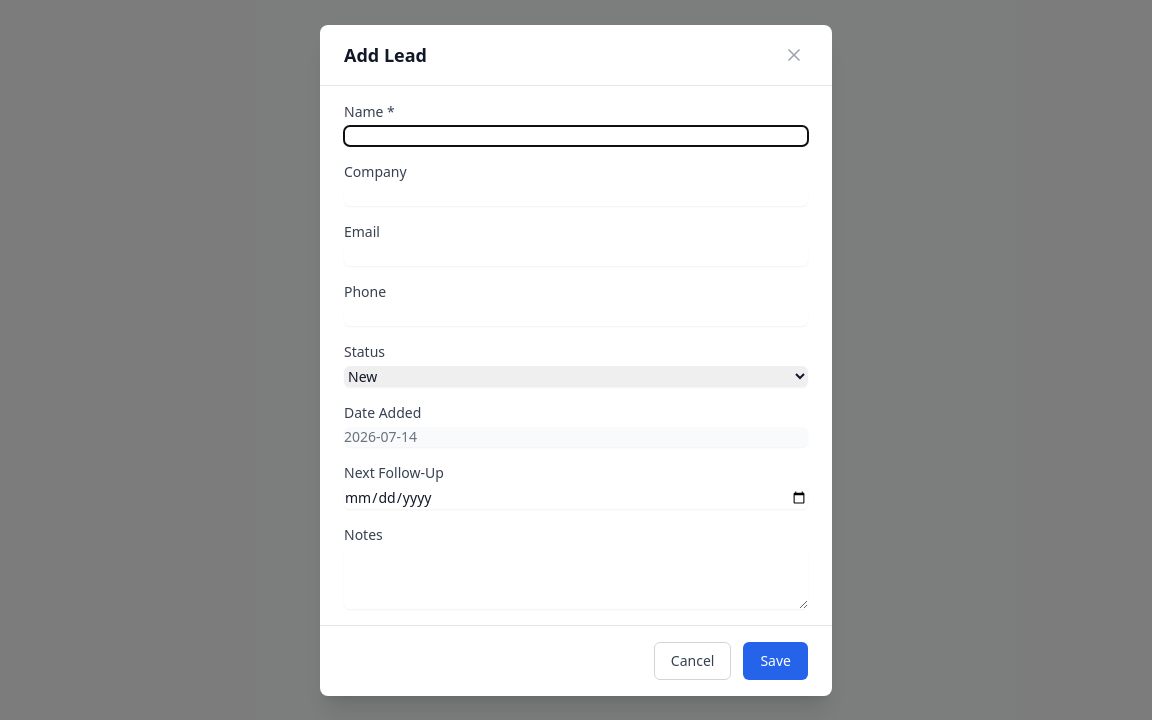
it: LeadForm › Form State Management › clears validation errors when user starts typing
The width and height of the screenshot is (1152, 720).
// Submit empty form to trigger validation error
Click the button "Save": (776,660) [743, 642, 808, 680]
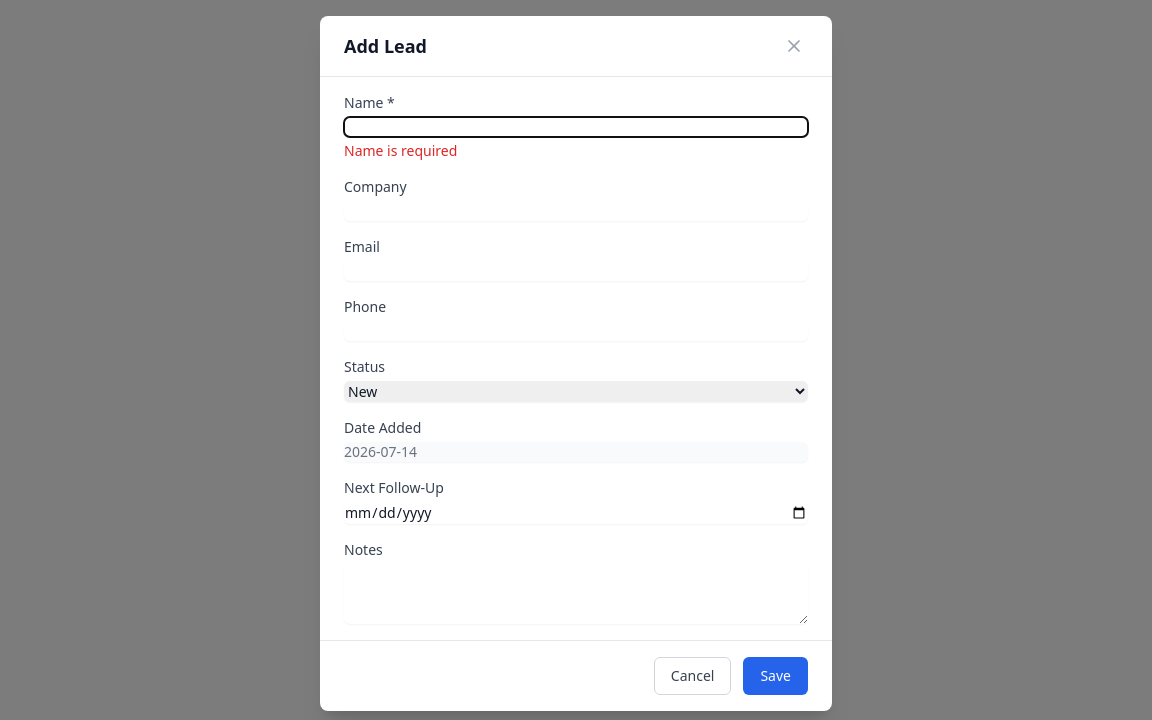
Now the text "Name is required" is shown, box [344, 141, 457, 160]
// Start typing in name field
In the field labelled "Name *": (576,127) [344, 117, 808, 137], type "J"
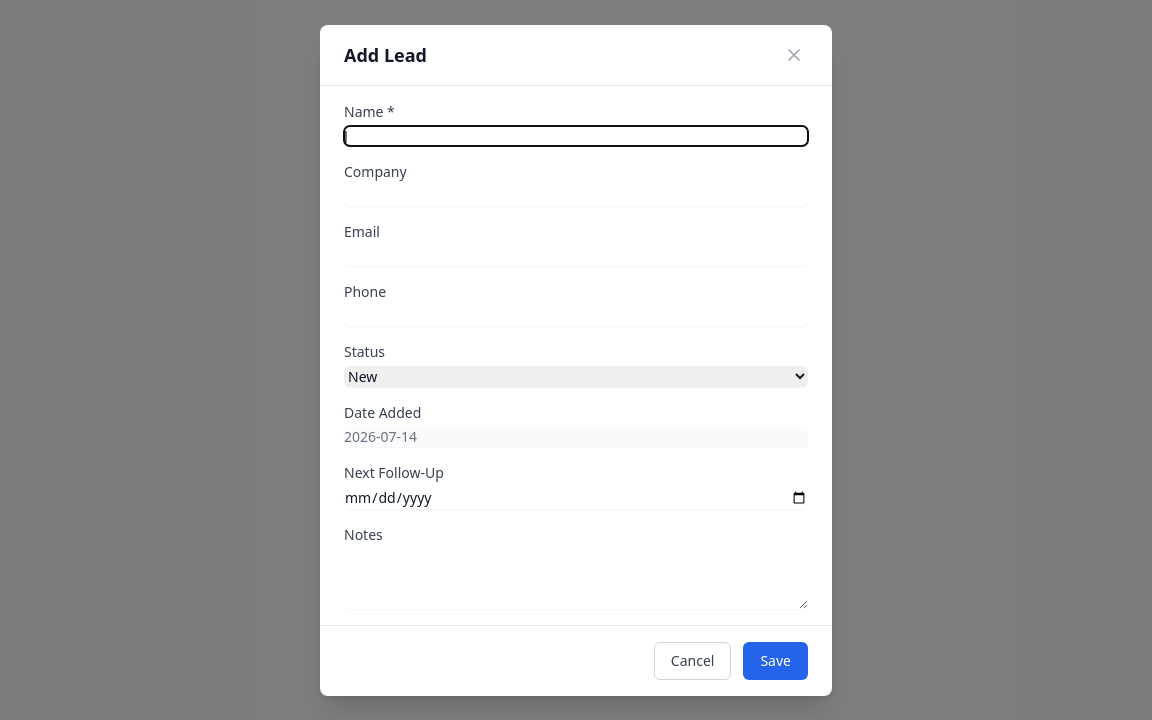
Now the text "Name is required" is gone
